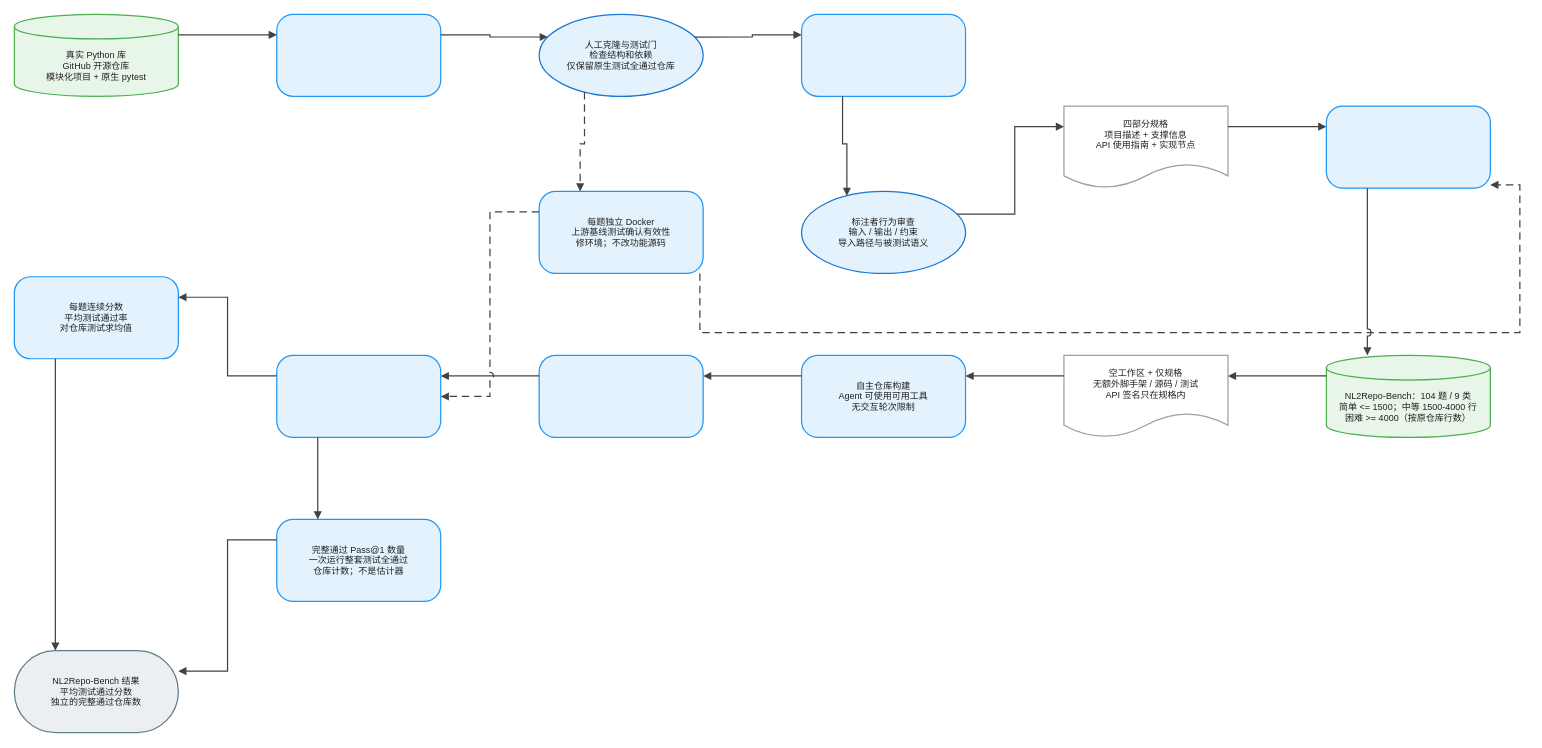
The diagram is 1542 pixels wide and 748 high, and some of its shapes have lost their labels. Here are the shapes that lost their labels. From the top down, the centre of each, then its label:
pixel 358 55: 仓库筛选标准 300-120,000 行 + 至少 10 星 pytest + 三年内创建 / 更新
pixel 883 55: AST API 清单 类 / 函数 / 常量 签名 + 源码位置；排除测试
pixel 1408 146: 多阶段质量保证 专家审核 + 静态 API 覆盖 先导 Agent + 高级工程师迭代
pixel 358 396: 原始上游 pytest 套件 --continue-on-collection-errors 执行全部已收集测试
pixel 620 396: 打包生成工作区 安装到任务评测镜像 隐藏资产始终不进入上下文
